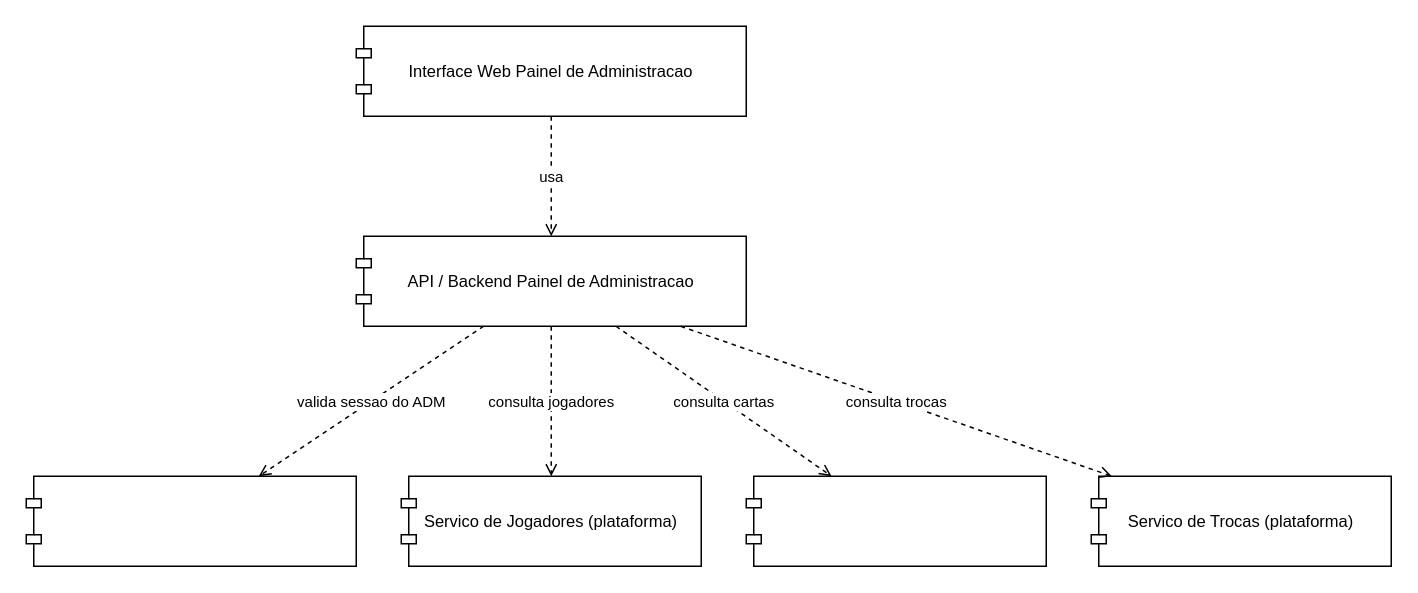
This 1418x593 diagram has some shape labels left out. Each missing label, with the centre of its shape:
"Servico de Autenticacao (plataforma)" belongs at [190,520].
"Servico de Cartas (plataforma)" belongs at [895,520].
